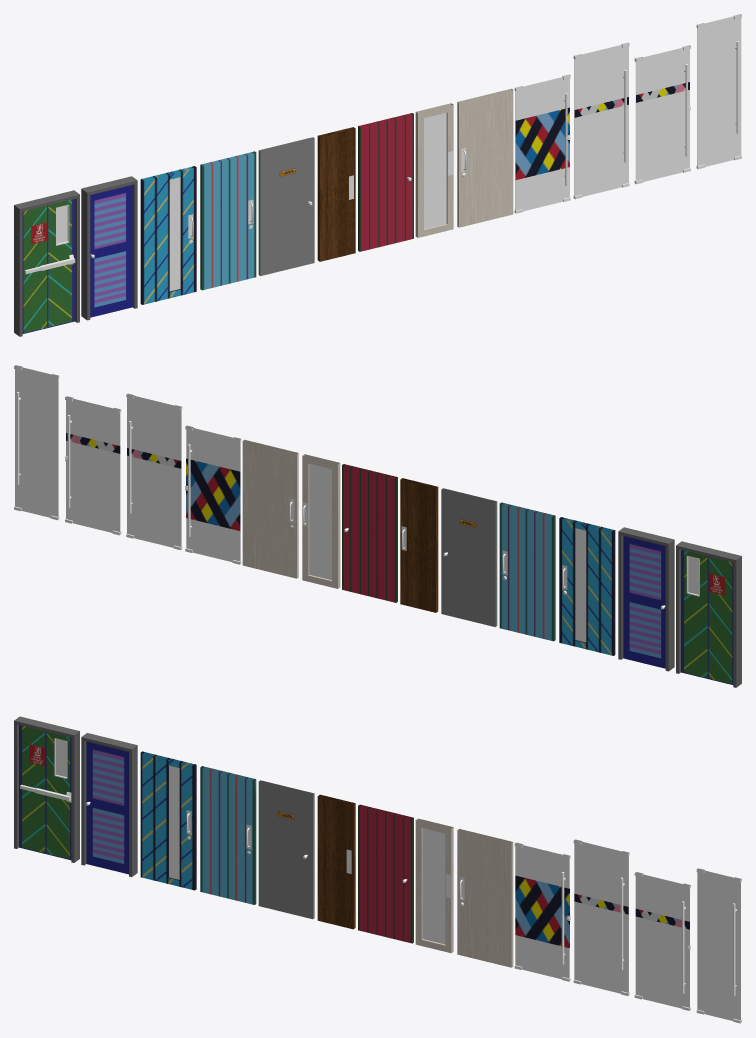
Rendered from Doors.fbx.
3 renders of one model, top to bottom at view 1: azimuth 30°, elevation 25°; view 2: azimuth 150°, elevation 25°; view 3: azimuth 330°, elevation 25°, orthographic.
Visible parts, largest first — view 1: GlassDoorTall, NormalDoor, ClinicDoor, PrayerRoomDoor, PersonnelDoor, CafeDoor, GlassDoorType2, GlassDoorType1, FireExitDoor, GlassDoorDouble, ElectricalDoor, StudioRecordingDoor (+3 smaller); view 2: GlassDoorTall, ClinicDoor, NormalDoor, PersonnelDoor, PrayerRoomDoor, CafeDoor, GlassDoorType2, GlassDoorType1, FireExitDoor, GlassDoorDouble, ElectricalDoor, StudioRecordingDoor (+3 smaller); view 3: GlassDoorTall, NormalDoor, ClinicDoor, PersonnelDoor, PrayerRoomDoor, CafeDoor, GlassDoorType1, GlassDoorType2, FireExitDoor, GlassDoorDouble, ElectricalDoor, StudioRecordingDoor (+3 smaller).
Boxes of the visible parts, x1,y1,x2,y2 form: GlassDoorTall: (573,42,629,199); NormalDoor: (457,88,513,227); ClinicDoor: (140,166,196,304); PrayerRoomDoor: (200,151,256,290); PersonnelDoor: (258,137,314,275); CafeDoor: (358,113,413,251); GlassDoorType2: (514,74,570,213); GlassDoorType1: (634,45,690,184); FireExitDoor: (22,199,75,333); GlassDoorDouble: (696,14,741,169); ElectricalDoor: (90,185,132,317); StudioRecordingDoor: (415,103,453,237); GlassDoorTall: (126,393,182,550); ClinicDoor: (559,517,615,655); NormalDoor: (242,439,298,578); PersonnelDoor: (441,488,497,626); PrayerRoomDoor: (499,502,555,641); CafeDoor: (342,464,397,602); GlassDoorType2: (185,425,241,564); GlassDoorType1: (65,396,121,535); FireExitDoor: (681,550,733,684); GlassDoorDouble: (14,365,59,520); ElectricalDoor: (623,536,665,668); StudioRecordingDoor: (302,454,340,588); GlassDoorTall: (573,839,629,995); NormalDoor: (457,828,513,967); ClinicDoor: (140,751,196,890); PersonnelDoor: (258,780,314,919); PrayerRoomDoor: (200,766,256,904); CafeDoor: (358,804,413,943); GlassDoorType1: (634,872,690,1010); GlassDoorType2: (514,842,570,981); FireExitDoor: (19,725,71,860); GlassDoorDouble: (696,868,741,1023); ElectricalDoor: (86,741,128,874); StudioRecordingDoor: (415,818,453,953).
Size of the model in its own units: 1236 by 234 by 21.04.
